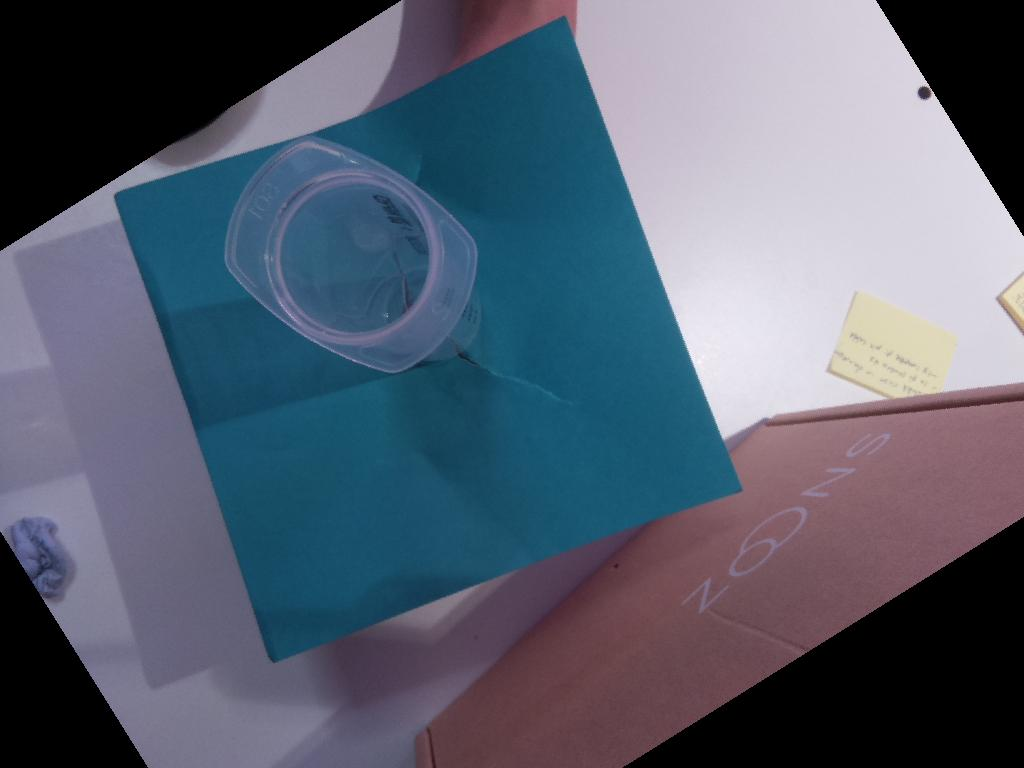clean: (222, 134, 479, 379)
